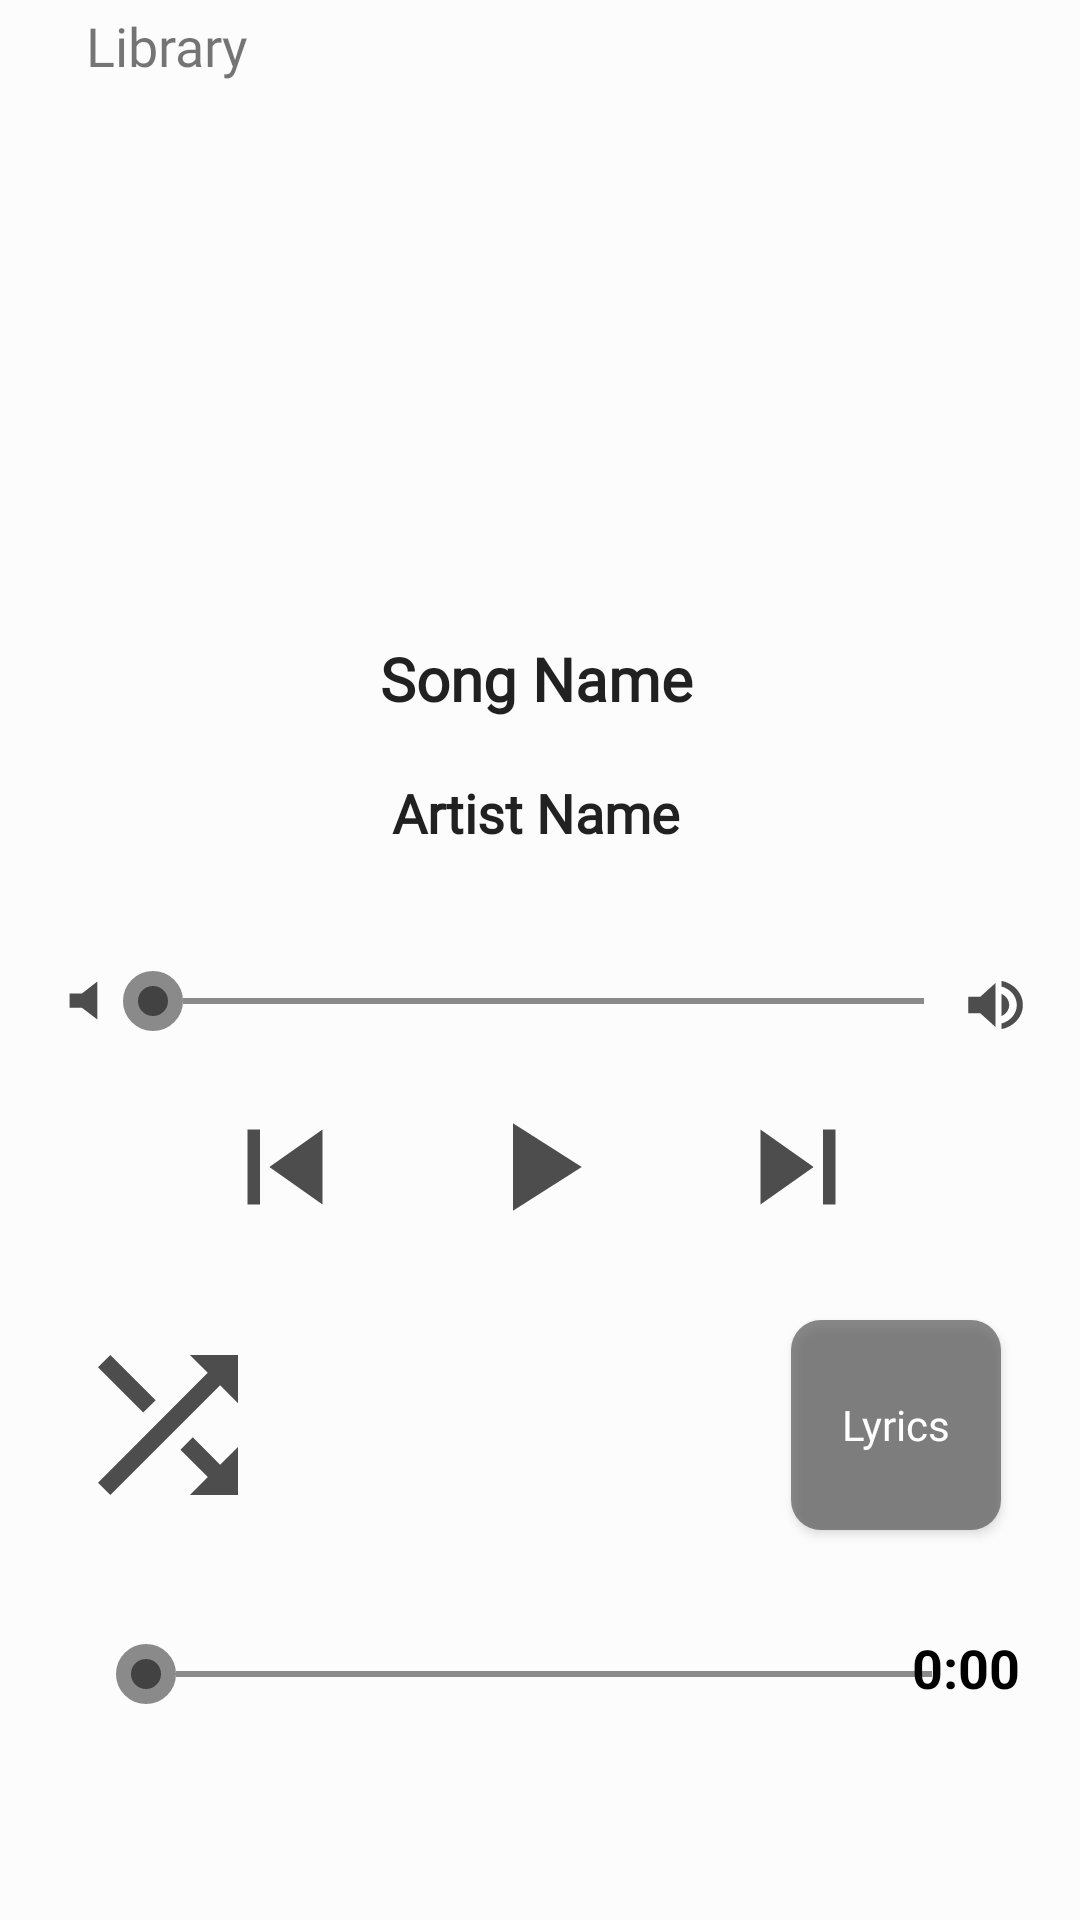

Icons on this 1080px x 1920px Android screen, each with the point to tap as [x,y]:
forward: [798,1167]
musiccontrol back: [285,1167]
musiccontrol play: [547,1167]
shuffle: [168,1425]
volumedown: [83,1000]
volumeup: [995,1005]
